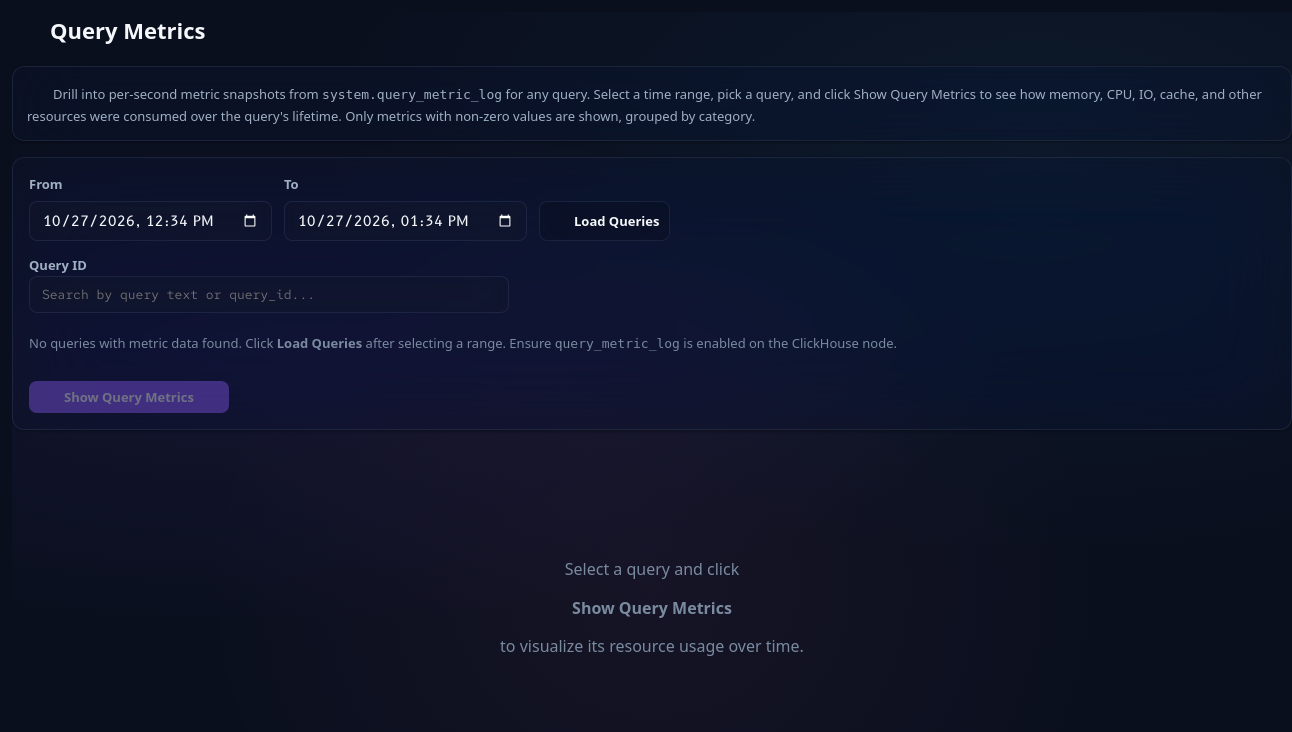
Test case: QueryMetrics Component › loads queries and shows list
Step 1. Click the button "Load Queries" → (605, 221), box [539,201,670,241]
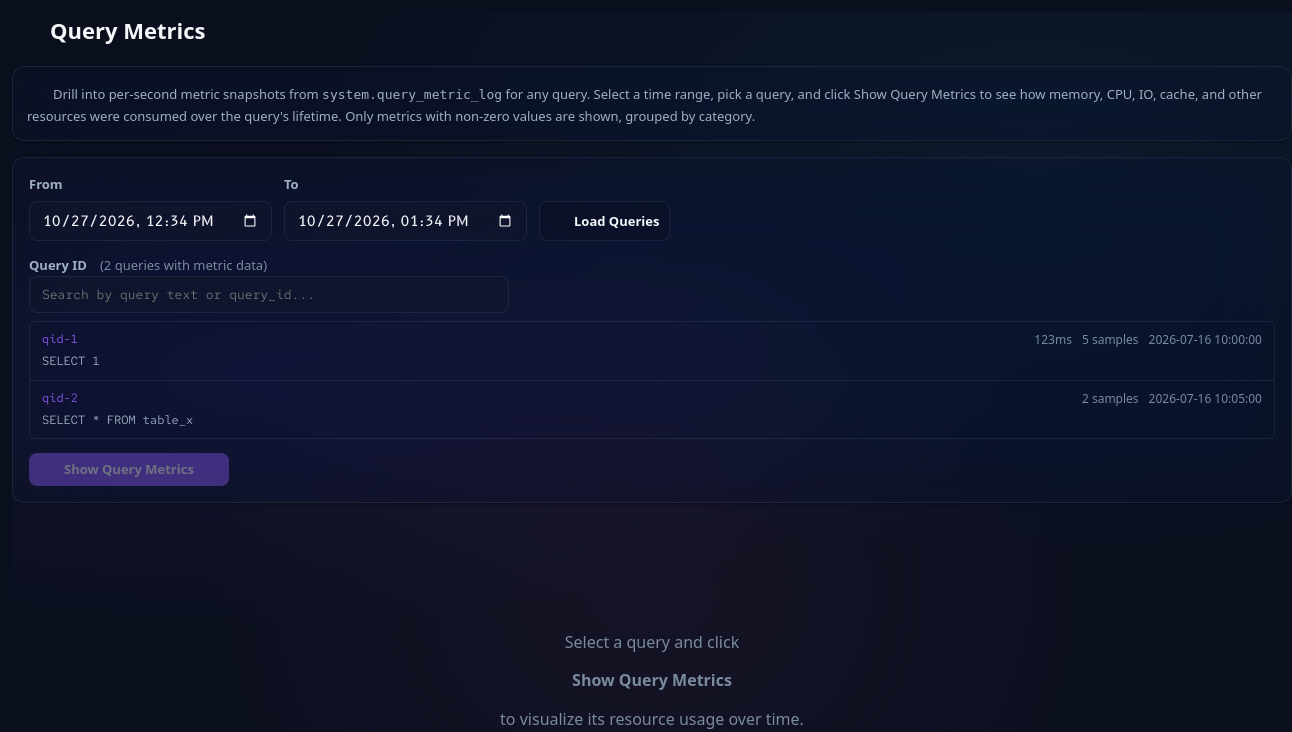
Result: the text "qid-1" is shown at [42,330,78,350]
Result: the text "qid-2" is shown at [42,389,78,409]
